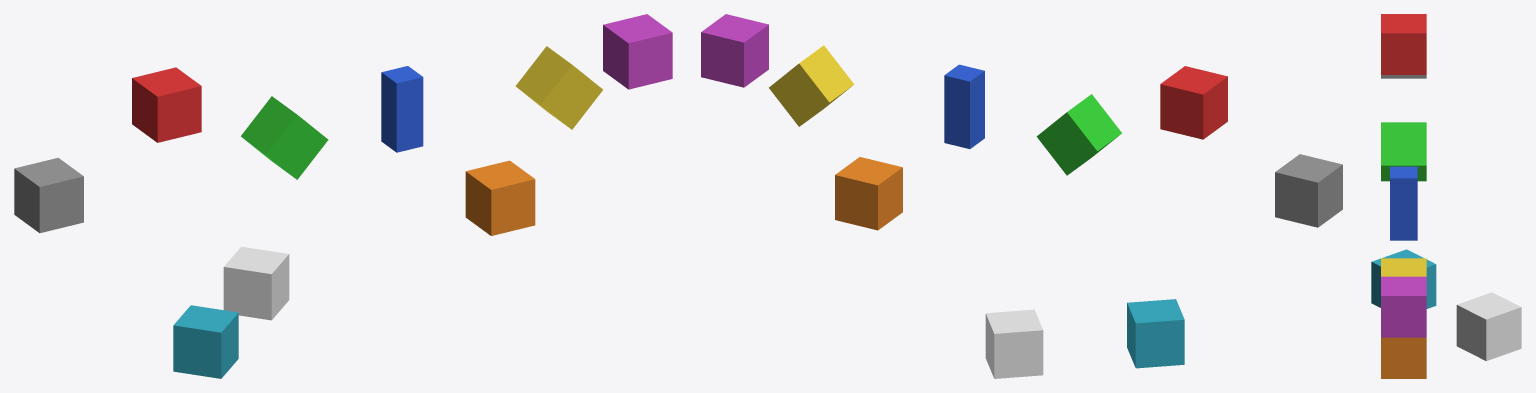
Rendered from m08_transforms.fbx.
3 renders of one model, left to right at view 1: azimuth 30°, elevation 25°; view 2: azimuth 150°, elevation 25°; view 3: azimuth 270°, elevation 25°, orthographic. The views are drawn at different scales.
Parts seen in each view (by area): view 1: Geometric, RotOrder, Translated, Base, Parent, Child, Pivot, Rotated, Scaled; view 2: RotOrder, Base, Translated, Geometric, Child, Parent, Rotated, Pivot, Scaled; view 3: Child, RotOrder, Translated, Rotated, Scaled, Geometric, Parent, Pivot, Base.
Part boxes in pixels (x1,y1,x2,y2): Geometric: [465, 160, 535, 235]; RotOrder: [603, 14, 672, 89]; Translated: [132, 67, 201, 142]; Base: [14, 157, 83, 233]; Parent: [173, 305, 238, 378]; Child: [223, 246, 289, 320]; Pivot: [515, 46, 602, 129]; Rotated: [241, 96, 328, 179]; Scaled: [381, 66, 423, 152]; RotOrder: [701, 14, 768, 87]; Base: [1275, 154, 1342, 227]; Translated: [1160, 66, 1227, 139]; Geometric: [835, 157, 902, 230]; Child: [985, 309, 1043, 378]; Parent: [1127, 299, 1184, 368]; Rotated: [1036, 94, 1121, 175]; Pivot: [769, 45, 854, 126]; Scaled: [944, 64, 984, 148]; Child: [1456, 292, 1521, 361]; RotOrder: [1381, 276, 1426, 337]; Translated: [1381, 14, 1426, 74]; Rotated: [1381, 122, 1426, 181]; Scaled: [1390, 166, 1417, 240]; Geometric: [1381, 337, 1426, 378]; Parent: [1371, 249, 1436, 308]; Pivot: [1381, 258, 1426, 276]; Base: [1381, 75, 1426, 78].
Size of the model in its own units: 6.45 by 2.85 by 1.47.
